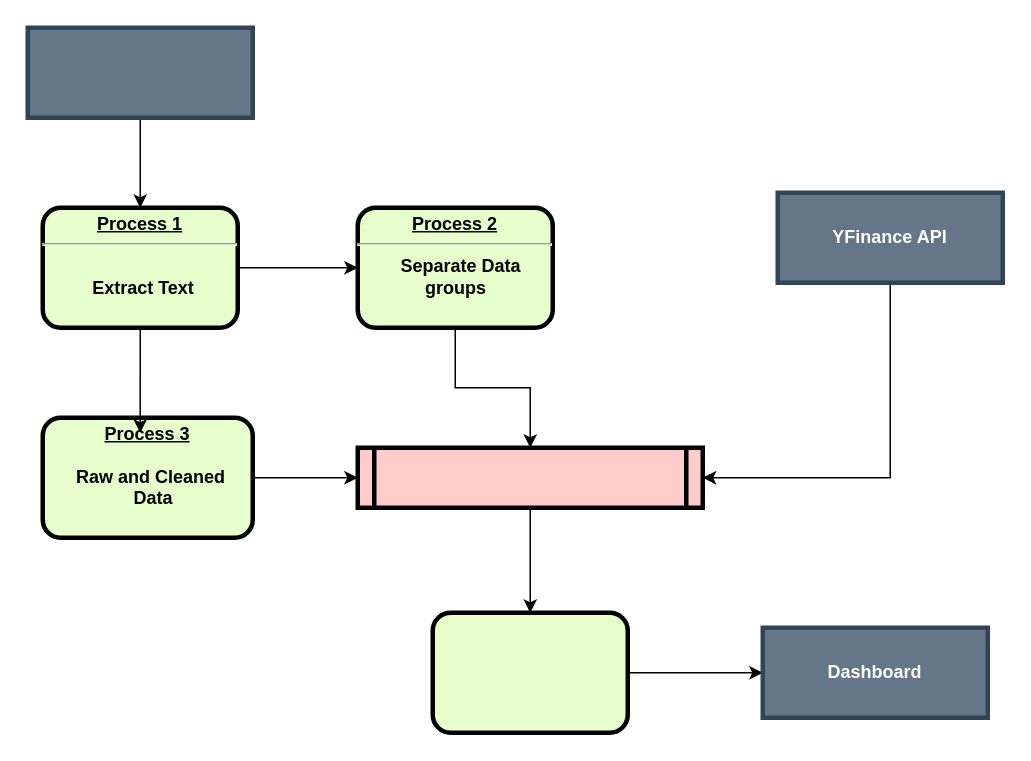
This 1031x761 diagram has some shape labels left out. The box of each missing label's shape, as (x1, y1, x2, y2) in pixels:
Process 4 Financial Models: (430, 610, 629, 734)
Wealthsimple Database: (355, 445, 704, 509)
Wealthsimple Monthly Docu: (25, 25, 254, 119)
